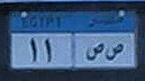1: (43, 35, 55, 65), (29, 35, 40, 62)
saad: (83, 39, 105, 61), (105, 41, 125, 63)
